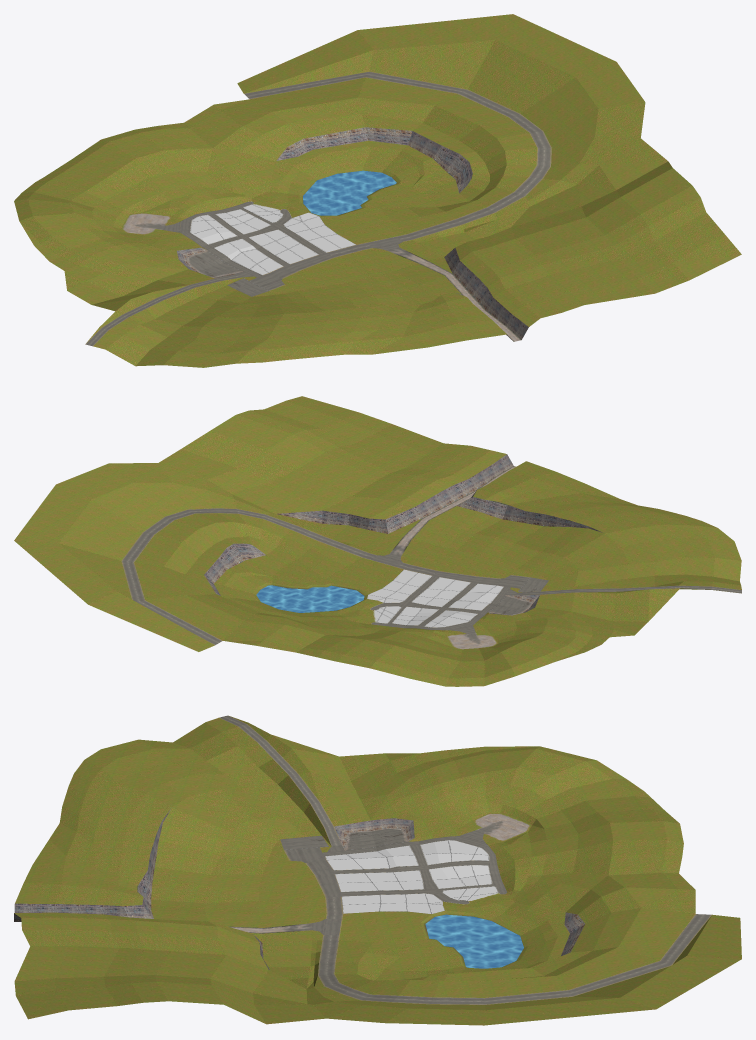
File: Terrain.fbx
The picture shows the model from 3 angles, top to bottom: view 1: azimuth 30°, elevation 25°; view 2: azimuth 150°, elevation 25°; view 3: azimuth 270°, elevation 25°; orthographic projection. The views are drawn at different scales.
Parts seen in each view (by area): view 1: Plane; view 2: Plane; view 3: Plane.
Part boxes in pixels (x1=…): Plane: x1=14, y1=14, x2=741, y2=367; Plane: x1=14, y1=396, x2=741, y2=686; Plane: x1=14, y1=715, x2=741, y2=1025.
Size of the model in its own units: 238 by 25.29 by 203.
